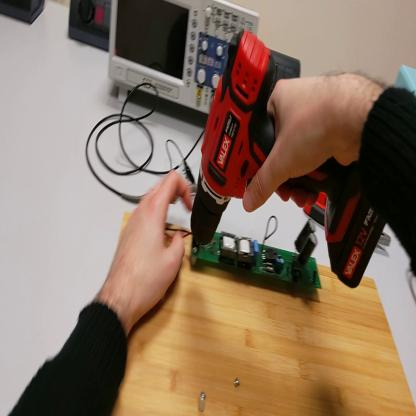electric screwdriver: (193, 33, 386, 290)
hand: (245, 72, 364, 208), (107, 169, 189, 317)
high voltage board: (170, 216, 324, 290)
oscilloscope: (110, 2, 261, 121)
pliers: (378, 227, 393, 250)
socket: (70, 1, 111, 54), (2, 4, 46, 26)
welder station: (396, 67, 416, 99)
working area: (114, 210, 416, 416)
